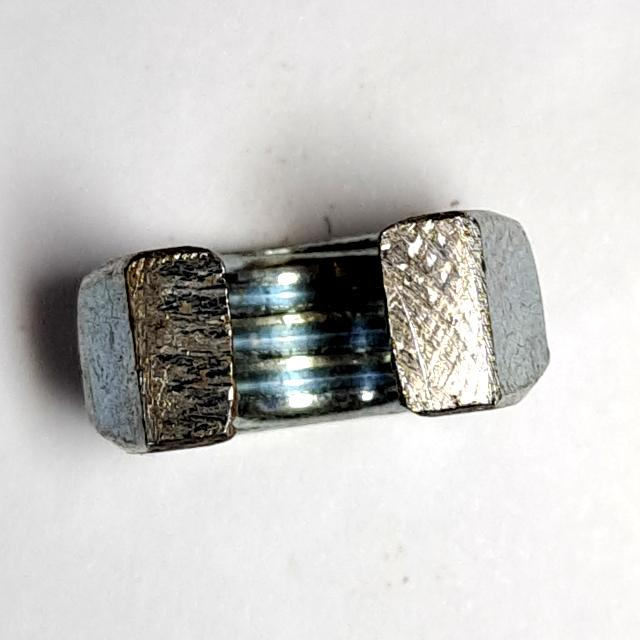Side-Fracture: (66, 192, 558, 475)
